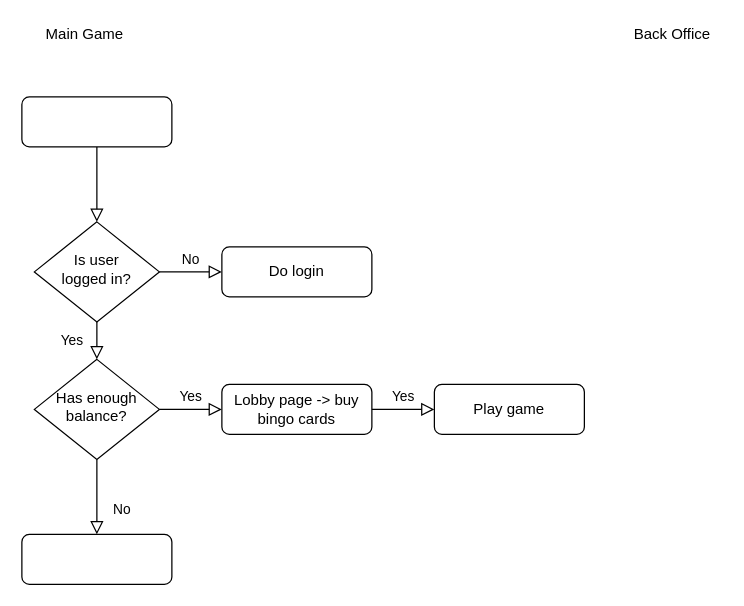
The diagram is 744 pixels wide and 606 high, and some of its shapes have lost their labels. Here are the shapes that lost their labels. From the top down, the centre of each, then its label:
point 96,121: Login page
point 96,558: Top-up balance
